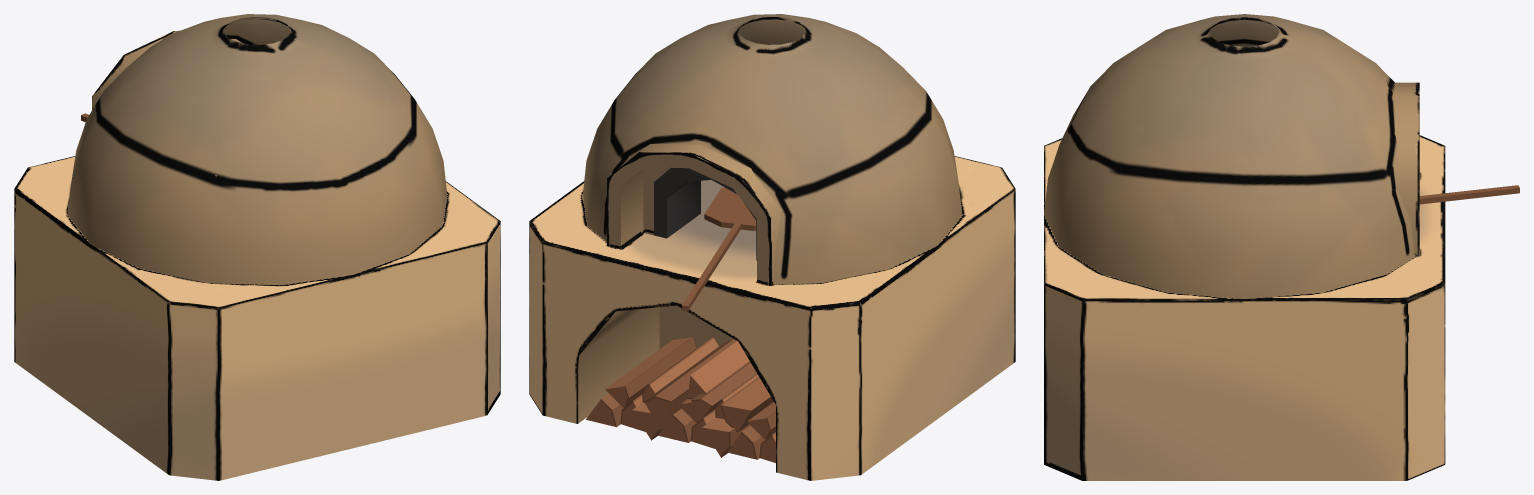
Rendered from oven.fbx.
The picture shows the model from 3 angles, left to right: view 1: azimuth 30°, elevation 25°; view 2: azimuth 150°, elevation 25°; view 3: azimuth 270°, elevation 25°; orthographic projection. The views are drawn at different scales.
Visible parts, largest first — view 1: Oven; view 2: Oven; view 3: Oven.
Boxes of the visible parts, x1=… form: Oven: x1=14, y1=14, x2=500, y2=480; Oven: x1=529, y1=14, x2=1015, y2=480; Oven: x1=1044, y1=14, x2=1519, y2=480.
Bounding box in the file's own units: 200 × 203 × 237.
3 materials, 1 textured.
